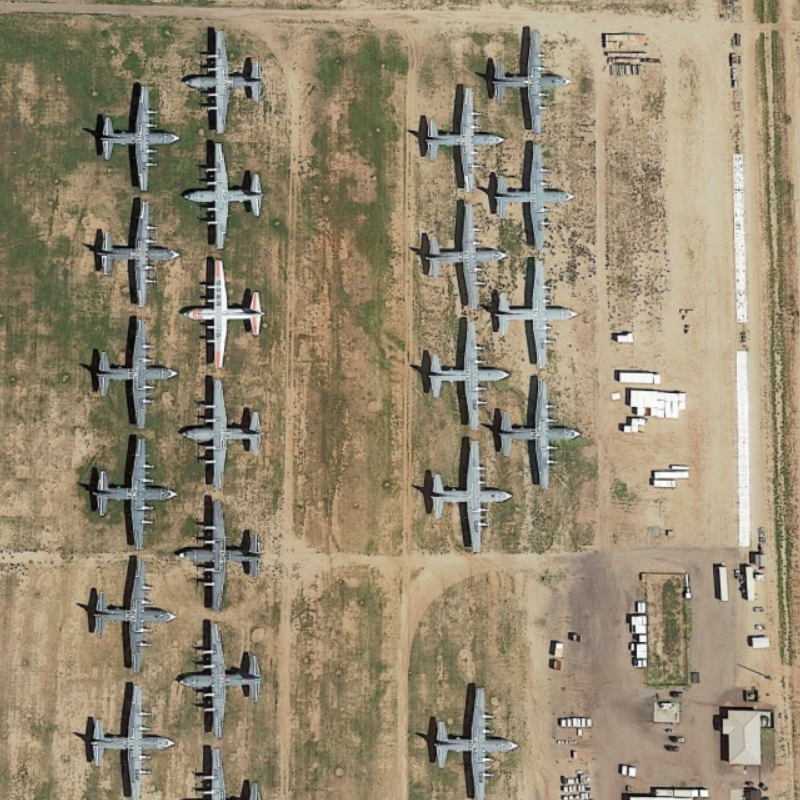A2: (421, 674, 524, 800), (75, 681, 181, 800), (172, 617, 275, 739), (174, 371, 274, 495), (84, 550, 181, 676), (415, 309, 514, 432), (83, 425, 178, 553), (480, 17, 576, 141), (79, 197, 183, 311), (425, 433, 521, 556), (487, 372, 583, 494), (171, 495, 267, 616), (87, 311, 182, 433), (486, 140, 581, 254), (414, 78, 507, 194), (180, 137, 274, 251), (490, 252, 578, 373), (182, 20, 271, 139), (419, 202, 512, 314), (182, 255, 271, 371), (95, 75, 182, 192)
